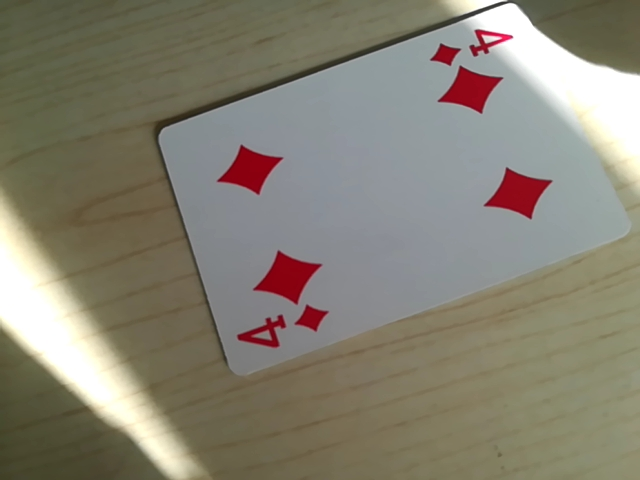fk 4: (232, 301, 332, 356), (430, 17, 516, 67)
